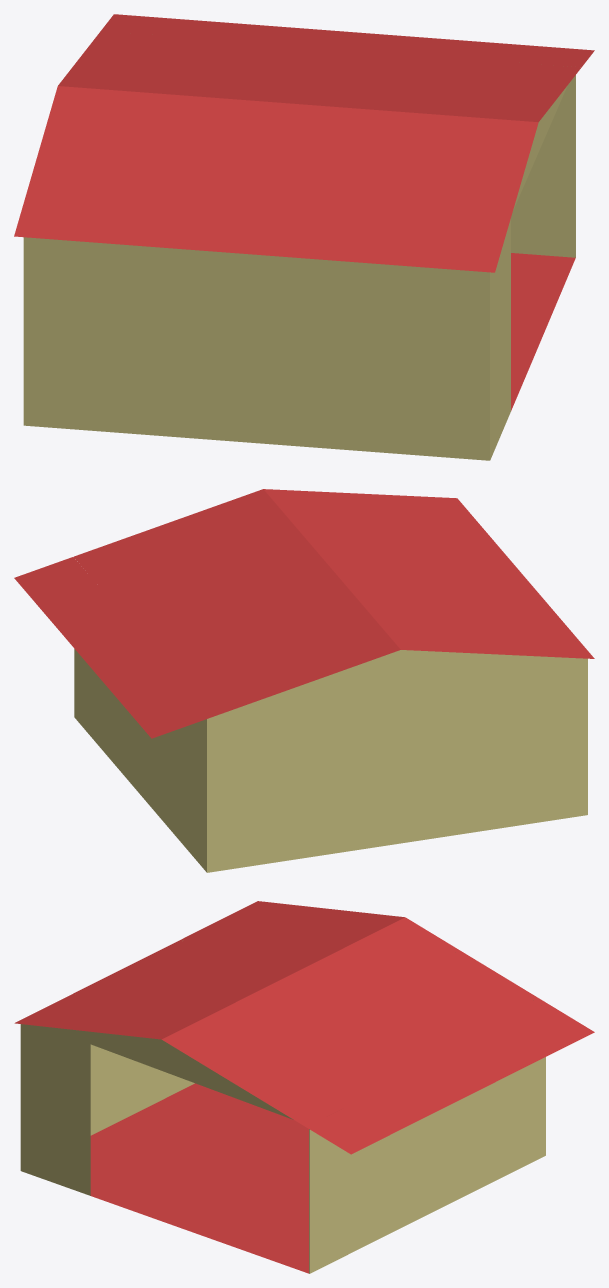
3 renders of one model, top to bottom at view 1: azimuth 30°, elevation 25°; view 2: azimuth 150°, elevation 25°; view 3: azimuth 270°, elevation 25°, orthographic. The views are drawn at different scales.
Size of the model in its own units: 30.87 by 31.27 by 10.94.
